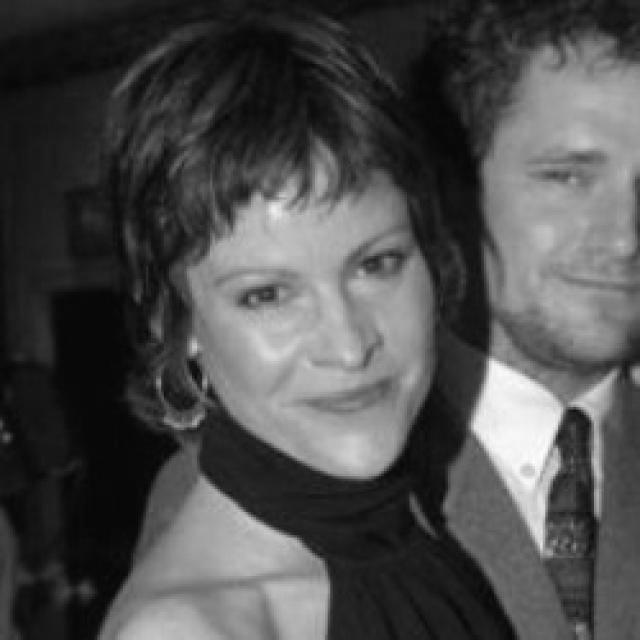real: (181, 167, 439, 486), (217, 229, 418, 319)
